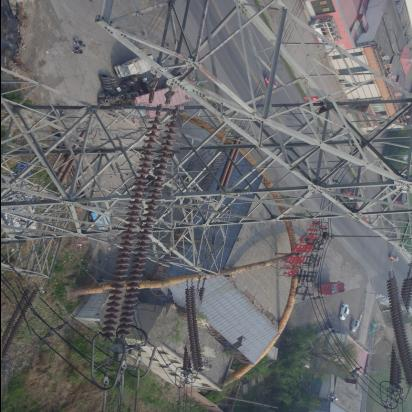insulator: (104, 102, 179, 347), (379, 271, 412, 389), (175, 281, 213, 374), (1, 278, 39, 367)
